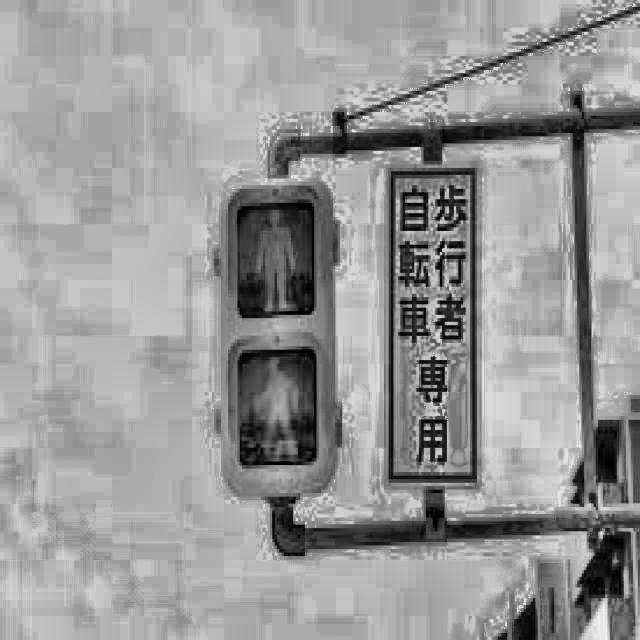semaforo pedestre: (152, 113, 398, 565)
